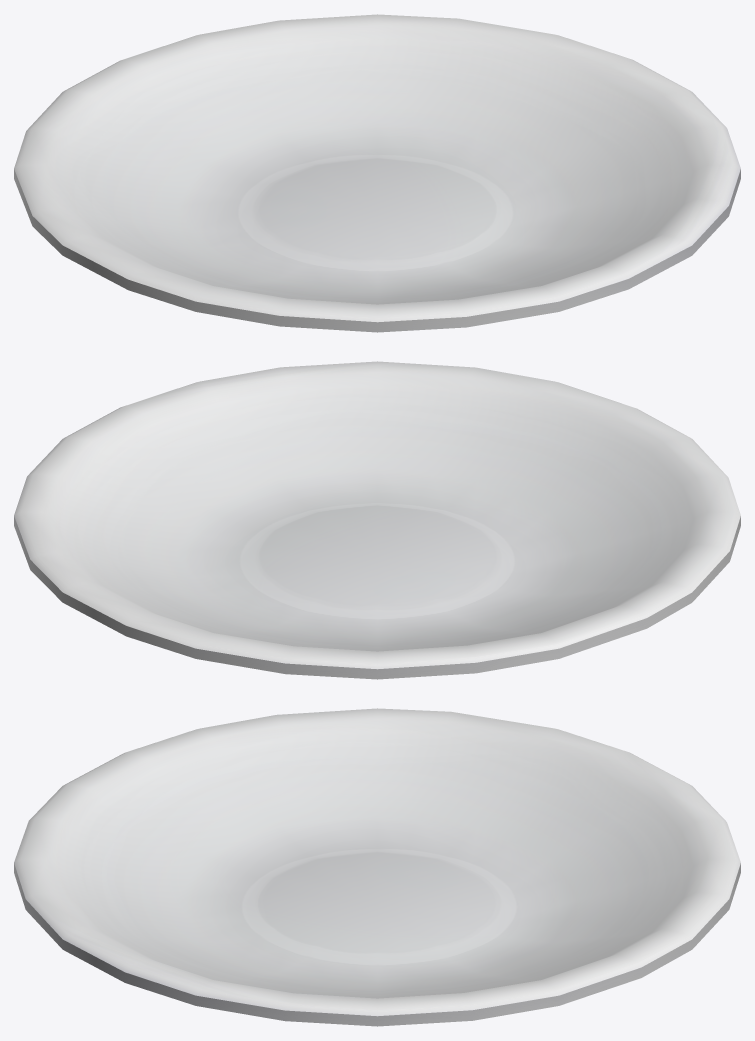
The model's file is Plate.fbx.
3 renders of one model, top to bottom at view 1: azimuth 30°, elevation 25°; view 2: azimuth 150°, elevation 25°; view 3: azimuth 270°, elevation 25°, orthographic.
Parts seen in each view (by area): view 1: Plate; view 2: Plate; view 3: Plate.
Part boxes in pixels (x1,y1,x2,y2): Plate: [14, 14, 740, 332]; Plate: [14, 361, 740, 679]; Plate: [14, 708, 740, 1026].
Size of the model in its own units: 200 by 14.84 by 200.
1 material, 1 textured.
